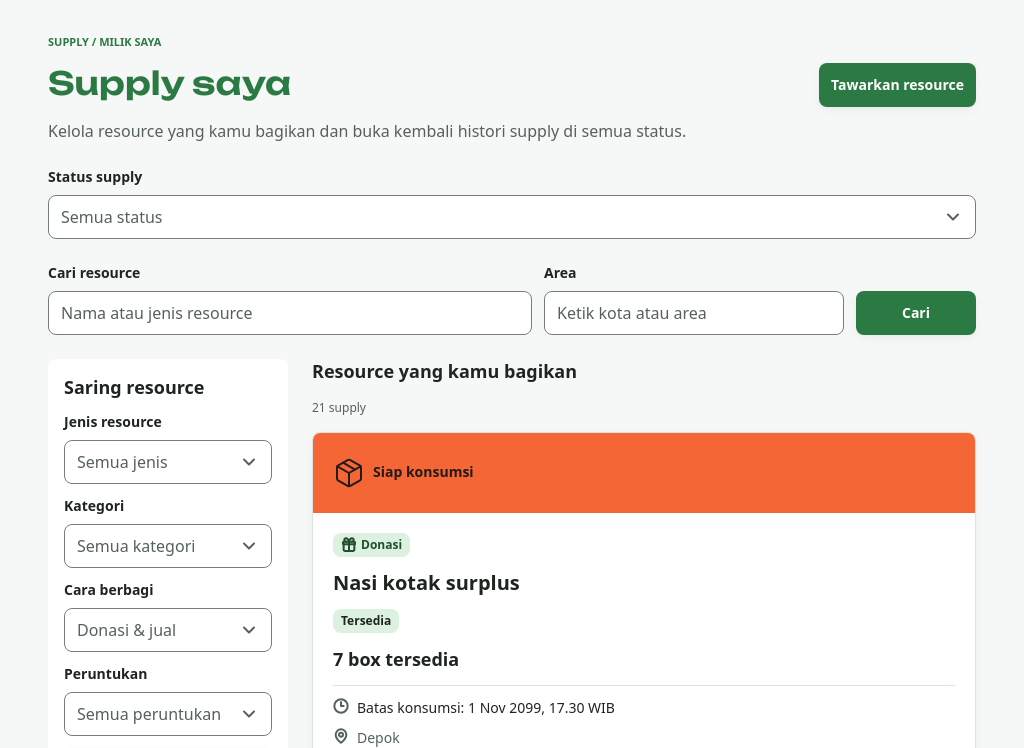
Test: disables close for terminal CLOSED and keeps historical details accessible
Step 1. Select "Ditutup" in the dropdown named "Status supply" → (512, 216), box [48,194,976,238]
(page scrolled)
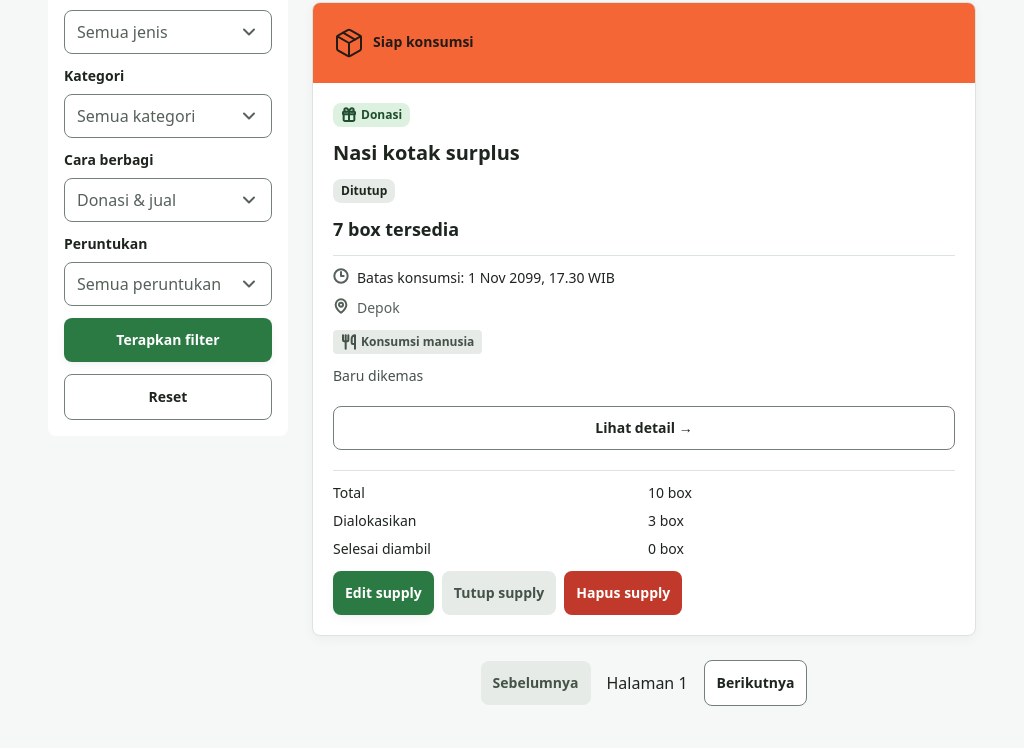
Expected: the link to "/supply/7" is shown, [333,406,955,450]
Expected: the button "Tutup supply" is disabled, [442,571,556,615]
